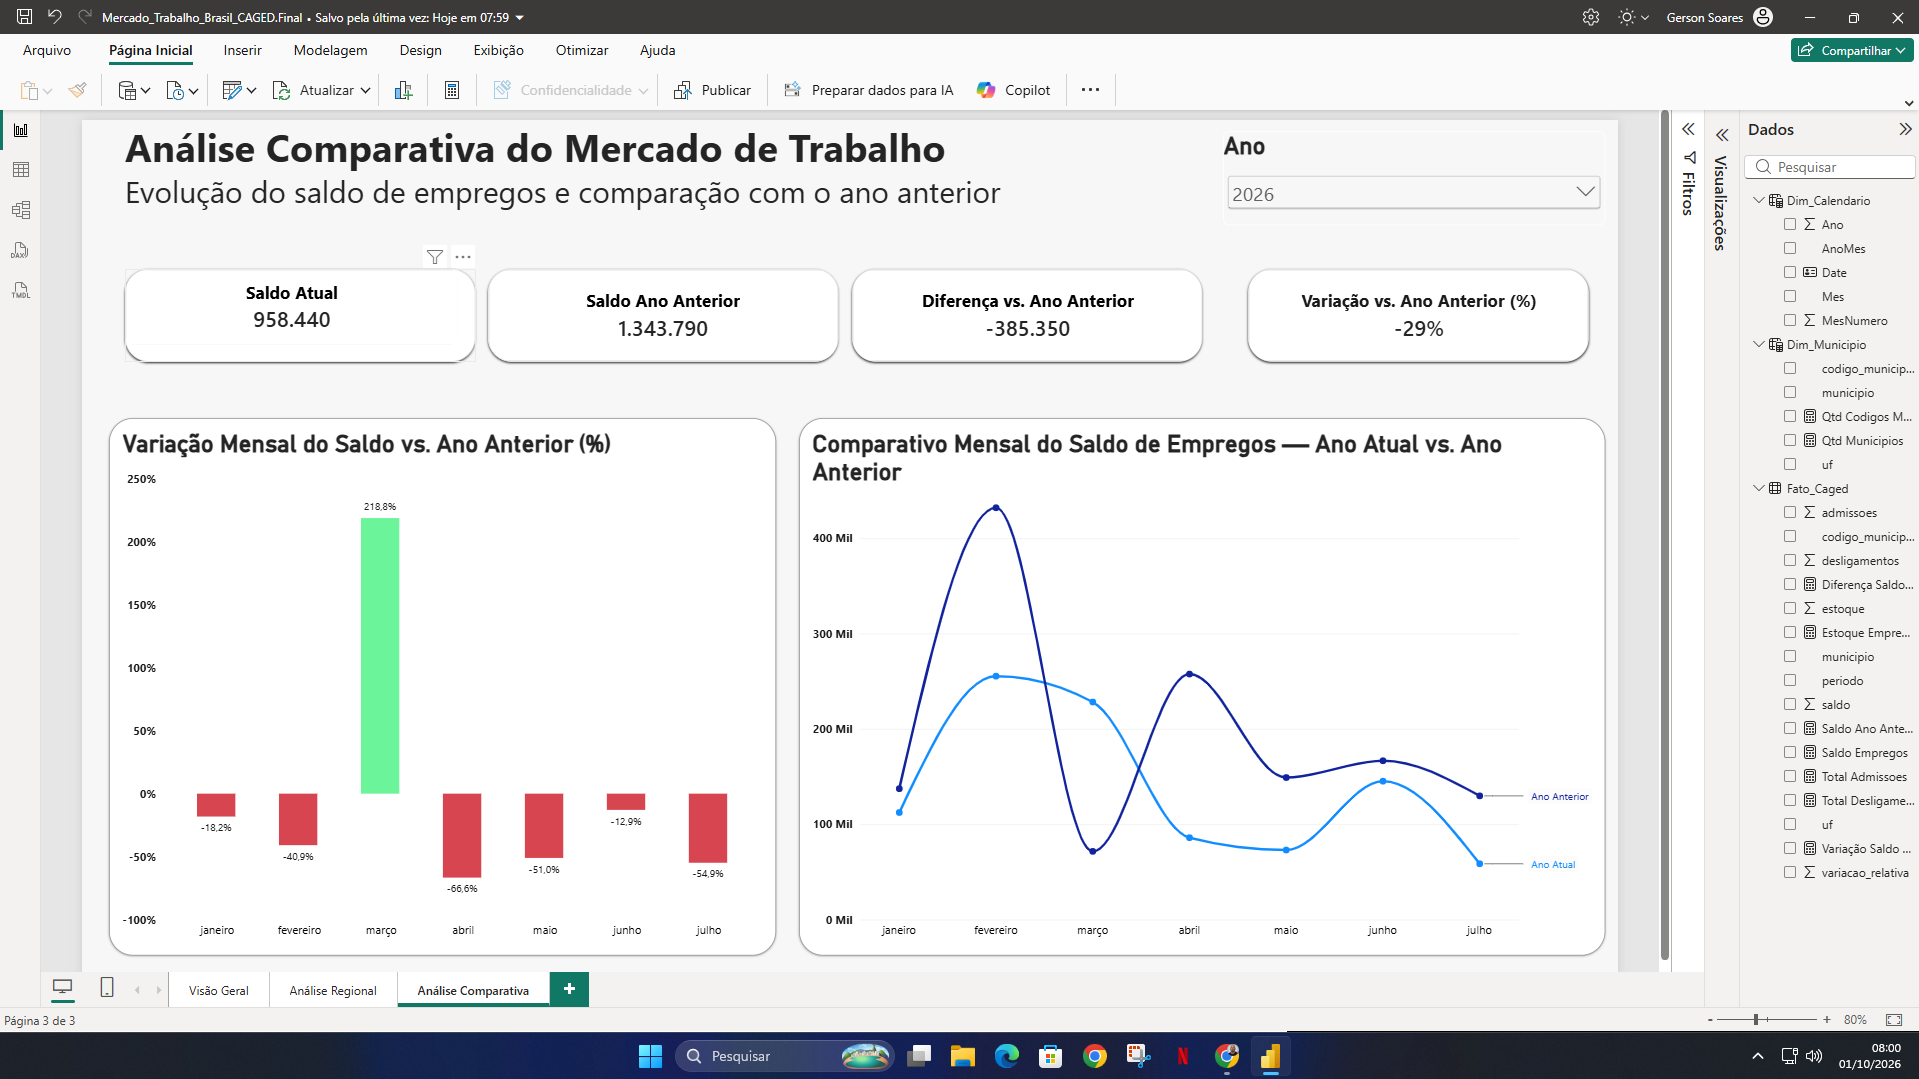

What the dashboard file says about the page in this screenshot:
{"tool":"powerbi","page":{"name":"Análise Comparativa","canvas":[1920,1080],"ordinal":2},"visuals":[{"type":"slicer","title":"Ano","fields":{"Values":["Dim_Calendario.Ano"]},"box":[1426.2,13.8,477.5,117.5],"z":0},{"type":"cardVisual","fields":{"Data":["Fato_Caged.Variação Saldo YoY %"]},"box":[1458,186,426,116],"z":3000},{"type":"lineChart","title":"Comparativo Mensal do Saldo de Empregos — Ano Atual vs. Ano Anterior","fields":{"Category":["Dim_Calendario.Mes"],"Y":["Fato_Caged.Saldo Empregos","Fato_Caged.Saldo Ano Anterior"]},"box":[896,372,1008,672],"z":5000},{"type":"clusteredColumnChart","title":"Variação Mensal do Saldo vs. Ano Anterior (%)","fields":{"Category":["Dim_Calendario.Mes"],"Y":["Fato_Caged.Variação Saldo YoY %"]},"box":[34,372,834,672],"z":6000},{"type":"textbox","box":[54,0,1122,114],"z":6001},{"type":"textbox","box":[1704,140,216,162],"z":6002},{"type":"cardVisual","title":"Saldo Empregos","fields":{"Data":["Fato_Caged.Saldo Empregos"]},"box":[54,186,438,116],"z":6003},{"type":"cardVisual","title":"Saldo Empregos","fields":{"Data":["Fato_Caged.Diferença Saldo YoY"]},"box":[962,186,438,116],"z":6005},{"type":"cardVisual","title":"Saldo Empregos","fields":{"Data":["Fato_Caged.Saldo Ano Anterior"]},"box":[508,186,438,116],"z":6006}]}

Visuals, with their boxes on the page's 1920x1080 design canvas (x1, y1, x2, y2). These are canvas units, not pixel positions in the 1919x1079 screenshot, which may show the page scaled, cropped or inside an application window:
"Ano" slicer: [left=1426, top=14, right=1904, bottom=131]
cardVisual - Fato_Caged.Variação Saldo YoY %: [left=1458, top=186, right=1884, bottom=302]
"Comparativo Mensal do Saldo de Empregos — Ano Atual vs. Ano Anterior" lineChart: [left=896, top=372, right=1904, bottom=1044]
"Variação Mensal do Saldo vs. Ano Anterior (%)" clusteredColumnChart: [left=34, top=372, right=868, bottom=1044]
textbox: [left=54, top=0, right=1176, bottom=114]
textbox: [left=1704, top=140, right=1920, bottom=302]
"Saldo Empregos" cardVisual: [left=54, top=186, right=492, bottom=302]
"Saldo Empregos" cardVisual: [left=962, top=186, right=1400, bottom=302]
"Saldo Empregos" cardVisual: [left=508, top=186, right=946, bottom=302]
